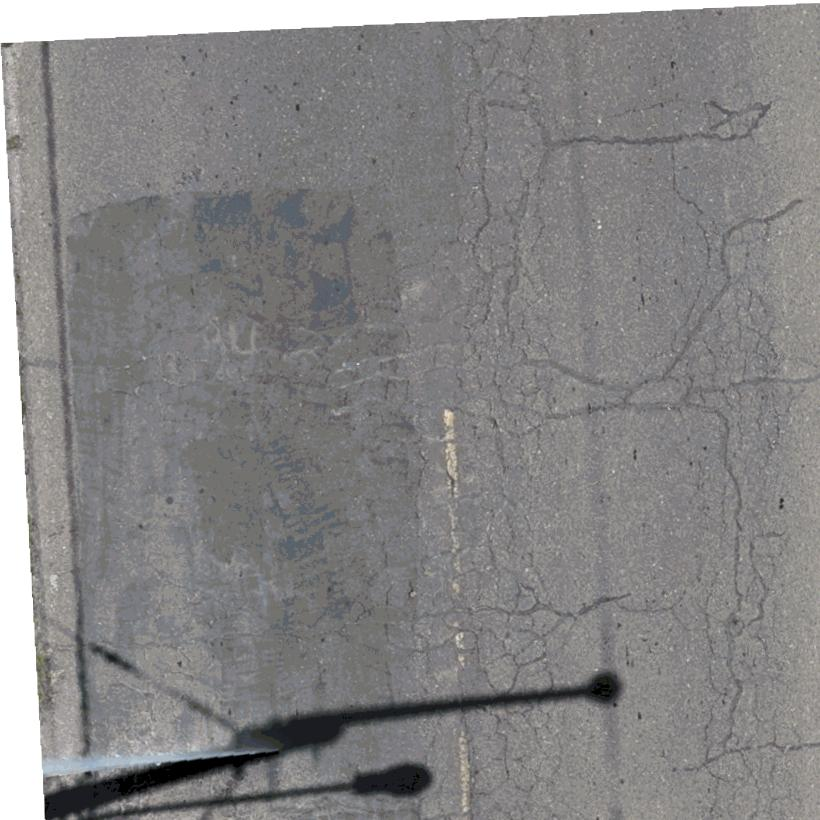GRIETA: (555, 101, 773, 150), (601, 100, 711, 127), (671, 144, 704, 215), (561, 365, 631, 393), (580, 596, 674, 616), (710, 102, 763, 131), (561, 404, 624, 421), (616, 592, 632, 601)
PARCHE: (62, 194, 399, 429), (182, 416, 349, 564)
PIEL DE COCODRILO: (81, 18, 588, 819), (624, 152, 819, 819)
